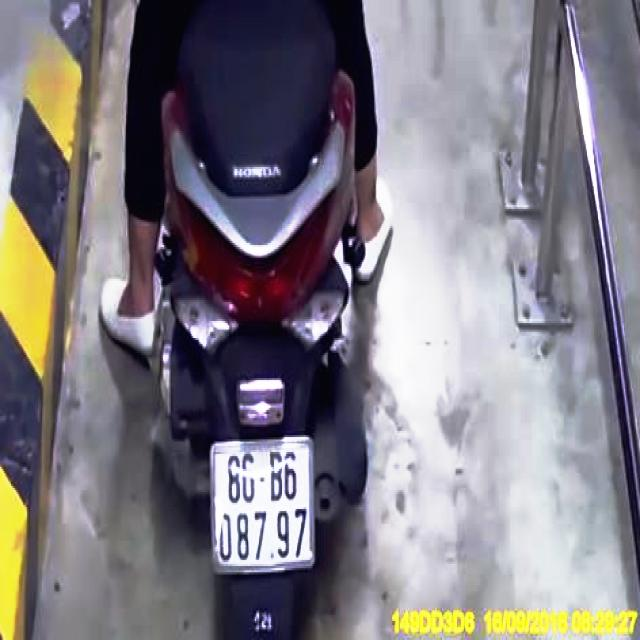license_plate: (213, 440, 316, 568)
